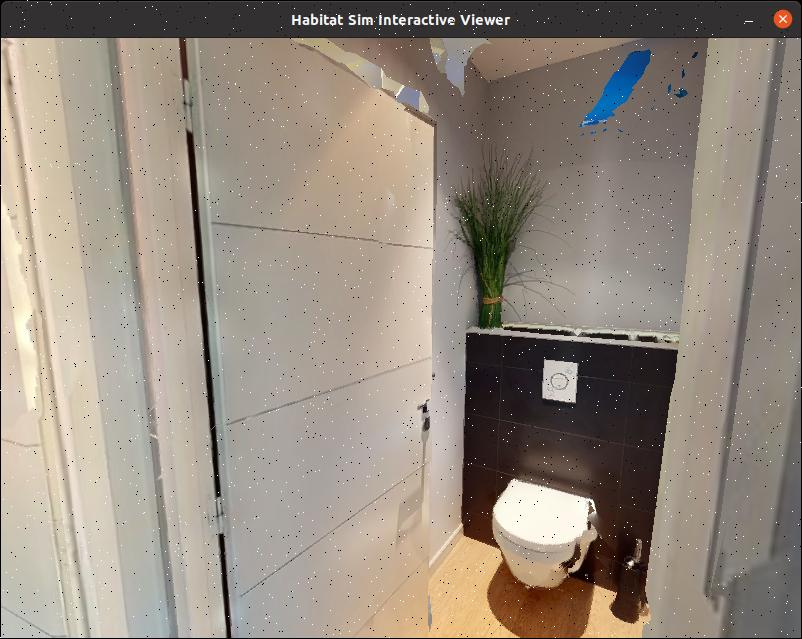door: (169, 38, 439, 639)
toilet: (483, 445, 613, 596)
